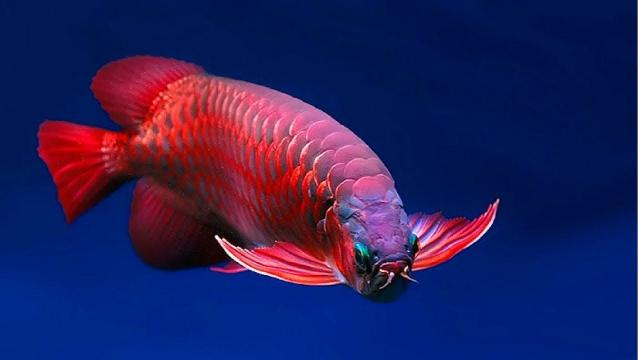Mulut: (354, 242, 430, 306)
Sirip Anal: (115, 168, 252, 276)
Sirip Dada: (206, 221, 362, 297), (394, 196, 508, 284)
Sirip Ekor: (30, 107, 142, 233)
Sirip Punggung: (82, 47, 215, 131)
